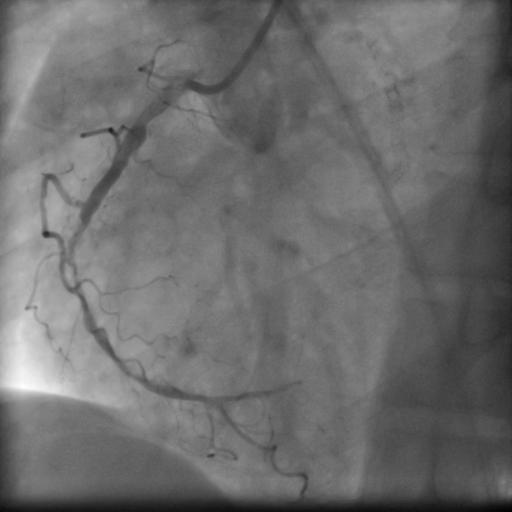Stenosis: (134, 94, 157, 128)
